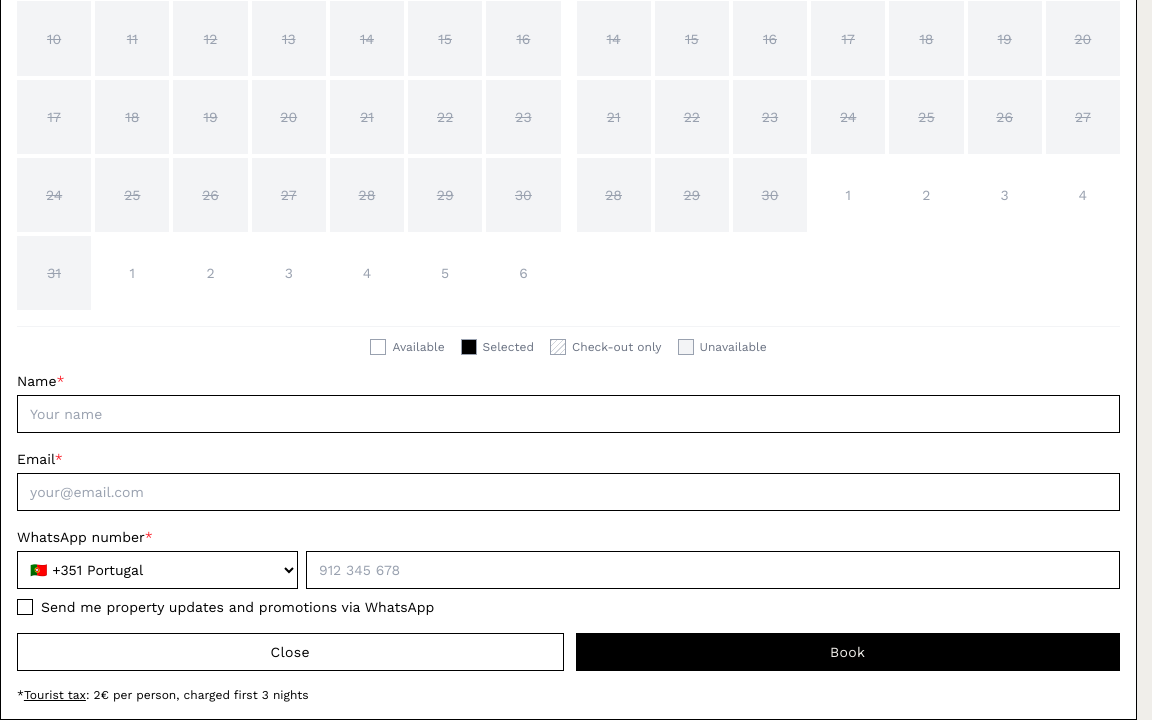
user sees error message and refreshed calendar when dates are no longer available
(page scrolled)
Type "Guest Example" into the field labelled "Name*" at coordinates (568, 414), box [17, 395, 1120, 433]
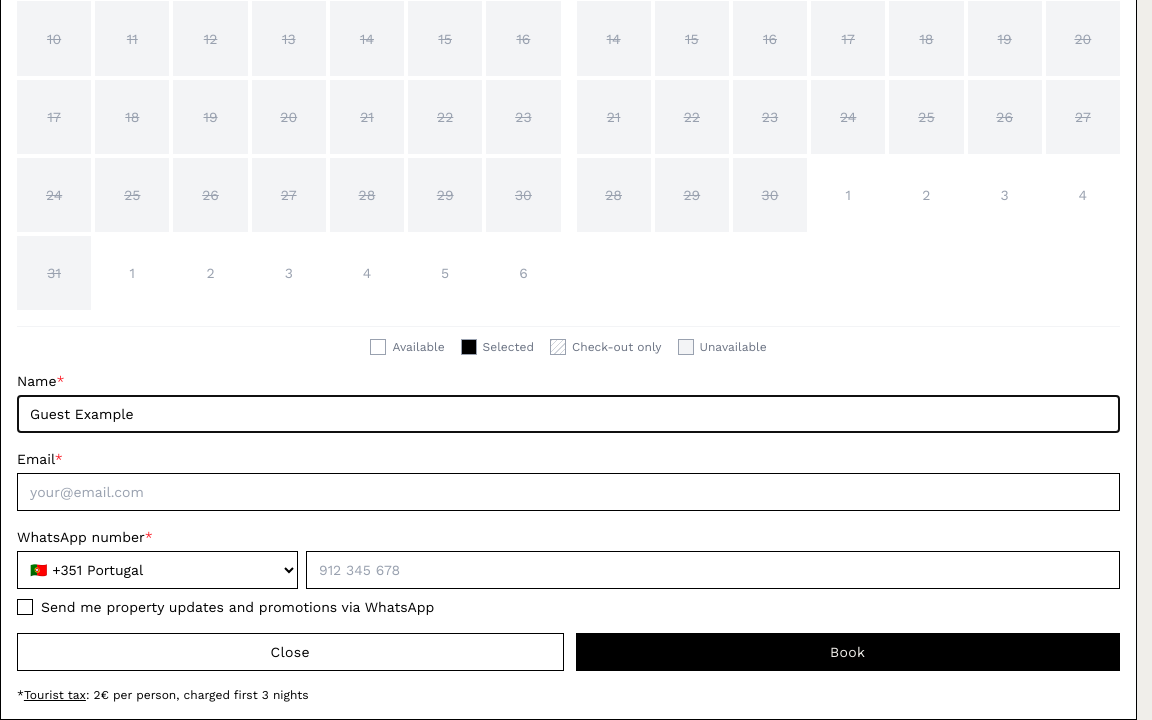
Type "guest@example.com" into the field labelled "Email*" at coordinates (568, 492), box [17, 473, 1120, 511]
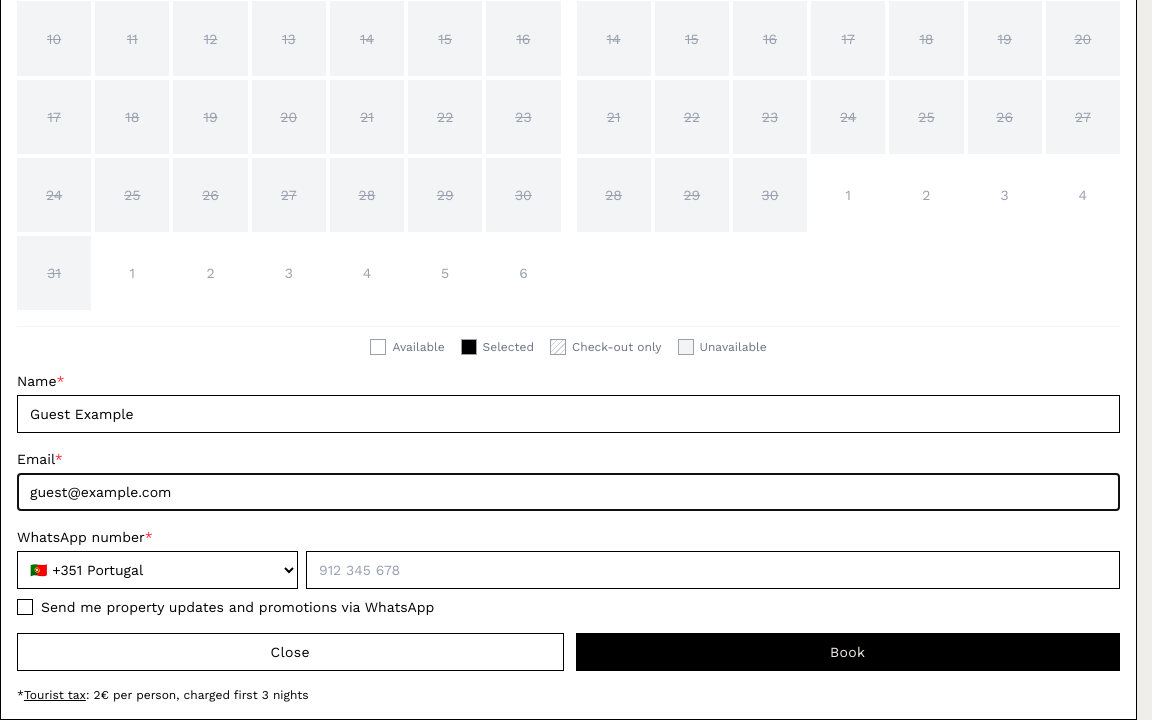
Type "920742845" into the field labelled "WhatsApp number*" at coordinates (713, 570), box [306, 551, 1120, 589]
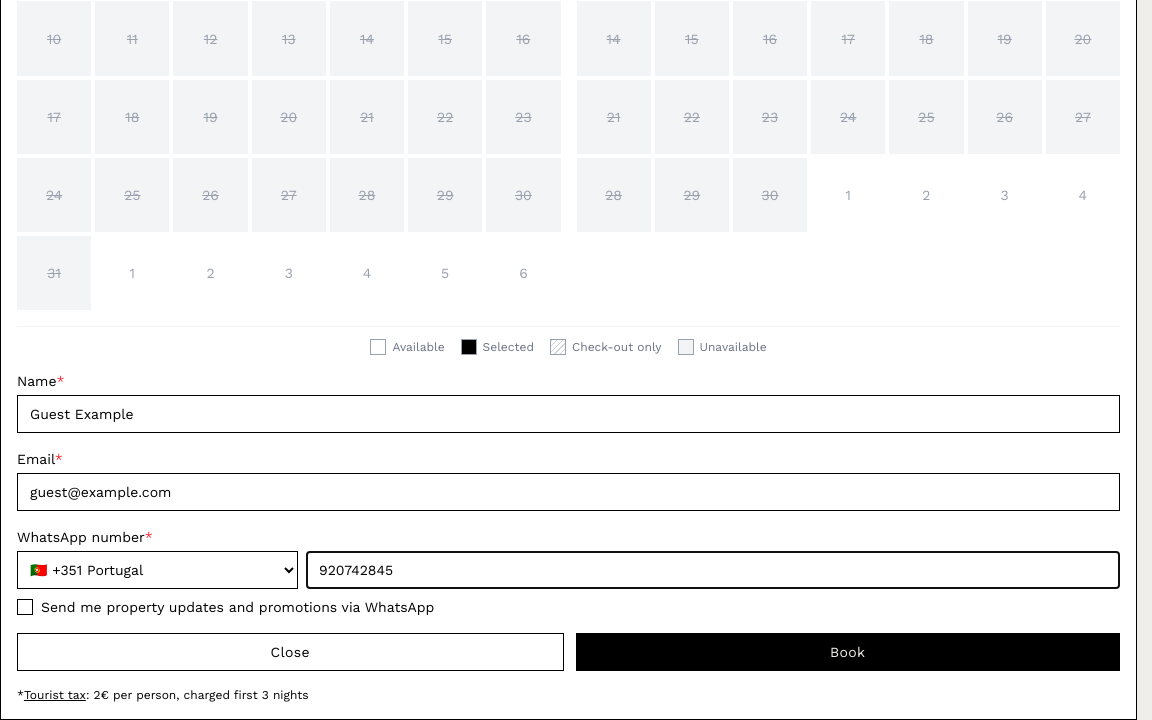
Click the button with aria-label "Confirm booking" at coordinates (848, 652), box [576, 633, 1120, 671]
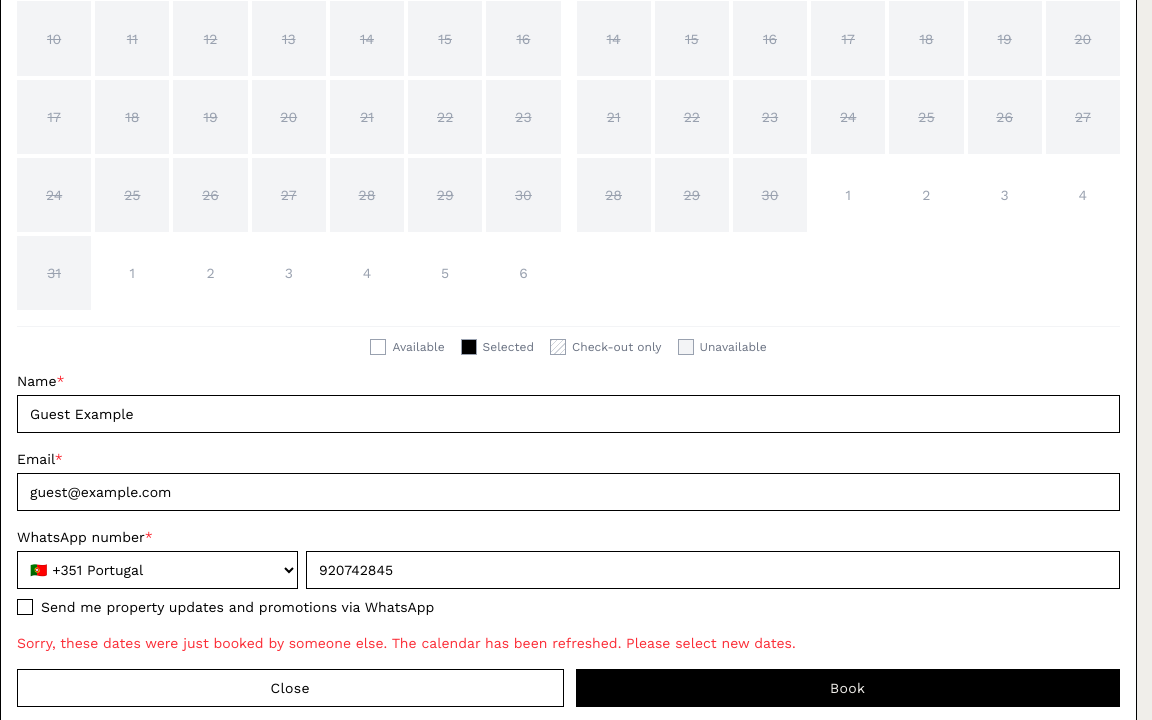
Check: the text "these dates were just booked by someone else" is shown, box [17, 635, 796, 651]
